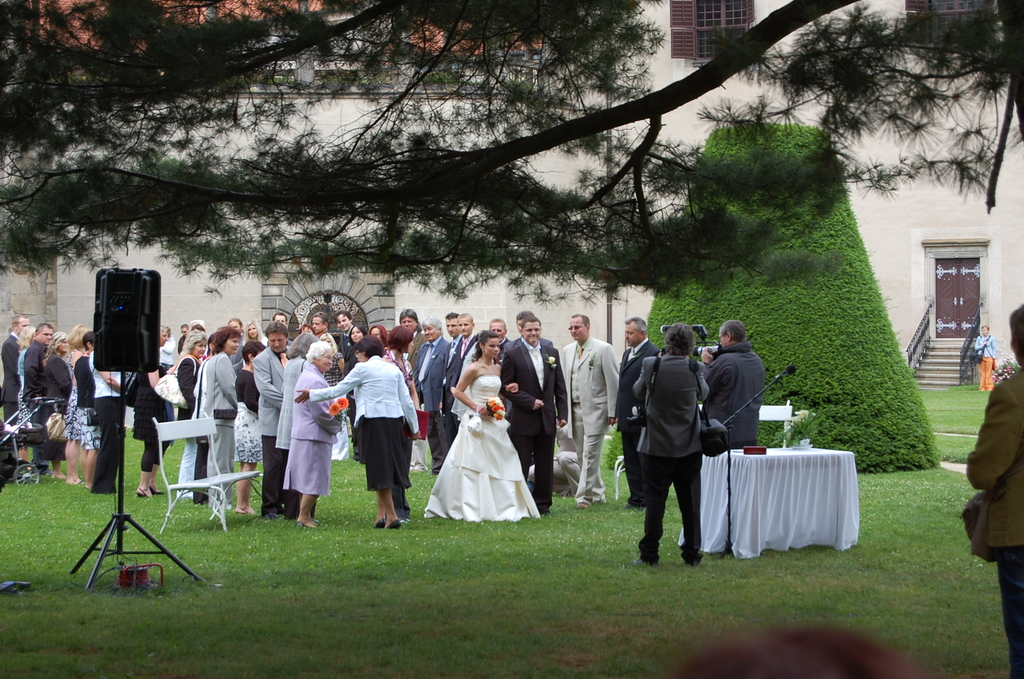Tree: (0, 0, 1023, 308)
